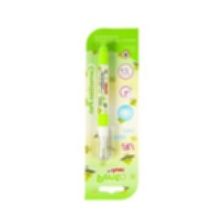book: (81, 26, 141, 202)
correction_fluid: (95, 42, 113, 162)
